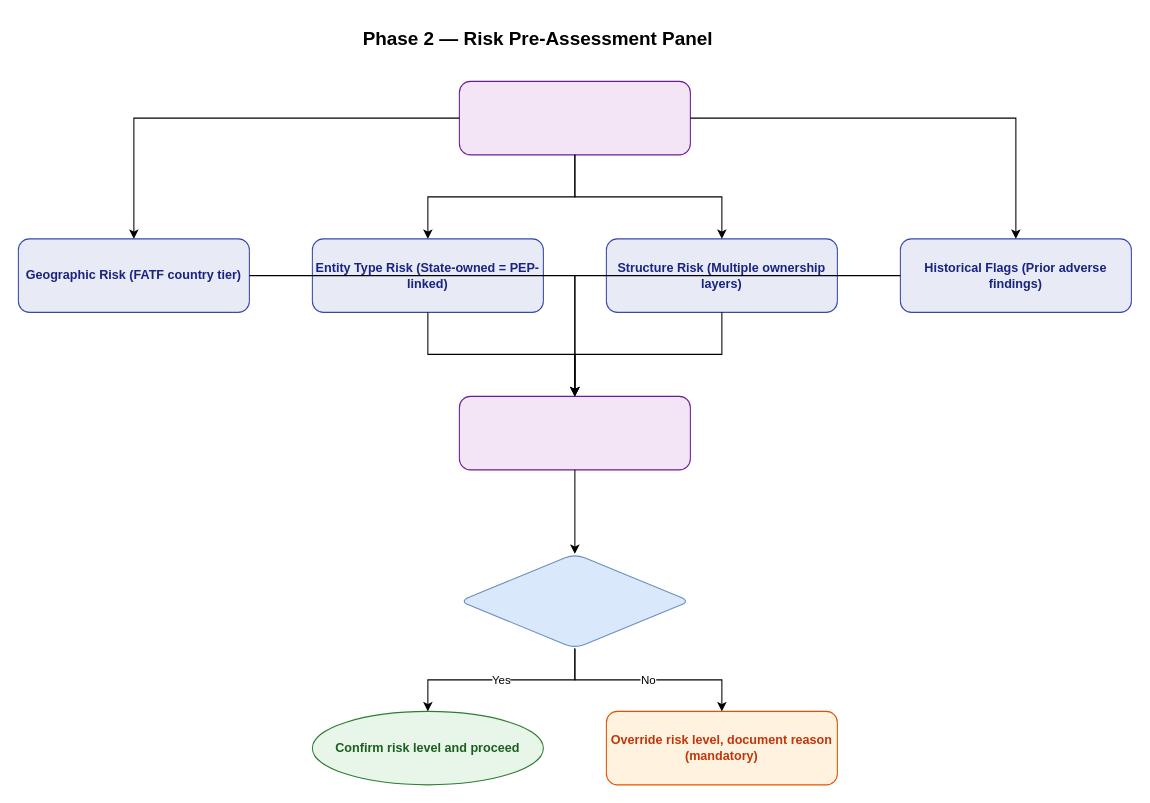
The diagram is 1150 pixels wide and 803 high, and some of its shapes have lost their labels. The shapes that lost their labels are listed below. From the top down, each one's centre as x and y in pixels, then its label:
At (574,117): "System Pre-Computes Risk Signals".
At (574,432): "System Suggests LOW/MEDIUM/HIGH".
At (574,600): "Officer Agrees?".
